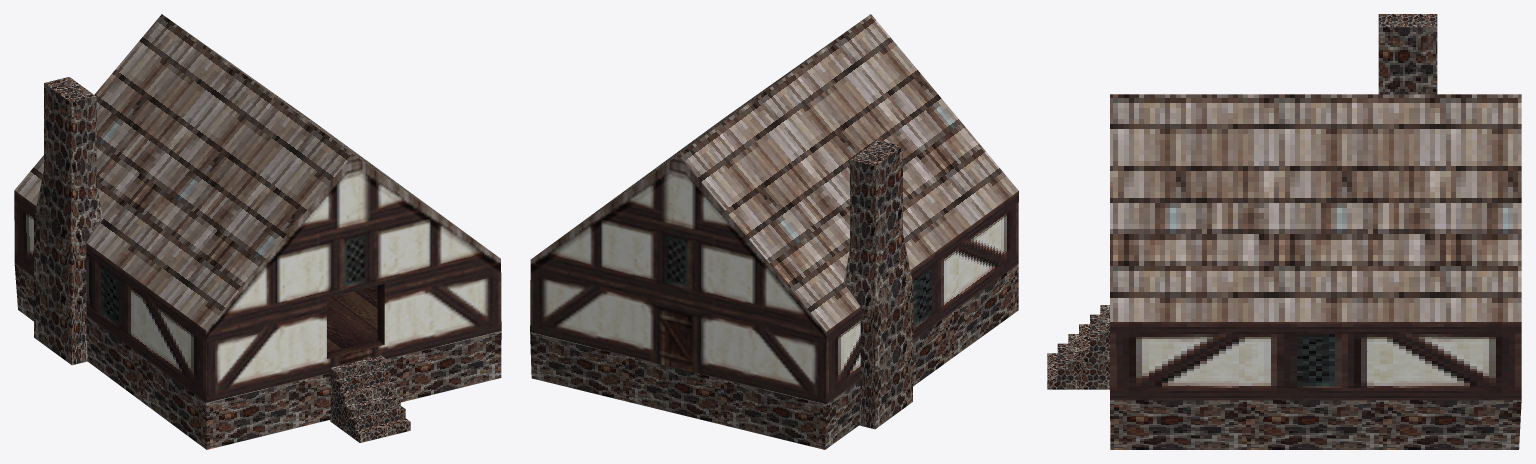
File: House1.fbx
3 renders of one model, left to right at view 1: azimuth 30°, elevation 25°; view 2: azimuth 150°, elevation 25°; view 3: azimuth 270°, elevation 25°, orthographic. The views are drawn at different scales.
Visible parts, largest first — view 1: HOUSE1; view 2: HOUSE1; view 3: HOUSE1.
Boxes of the visible parts, bbox=[...] form: HOUSE1: bbox=[14, 14, 501, 449]; HOUSE1: bbox=[530, 14, 1018, 449]; HOUSE1: bbox=[1047, 14, 1521, 449].
Size of the model in its own units: 54.01 by 43.57 by 66.71.
